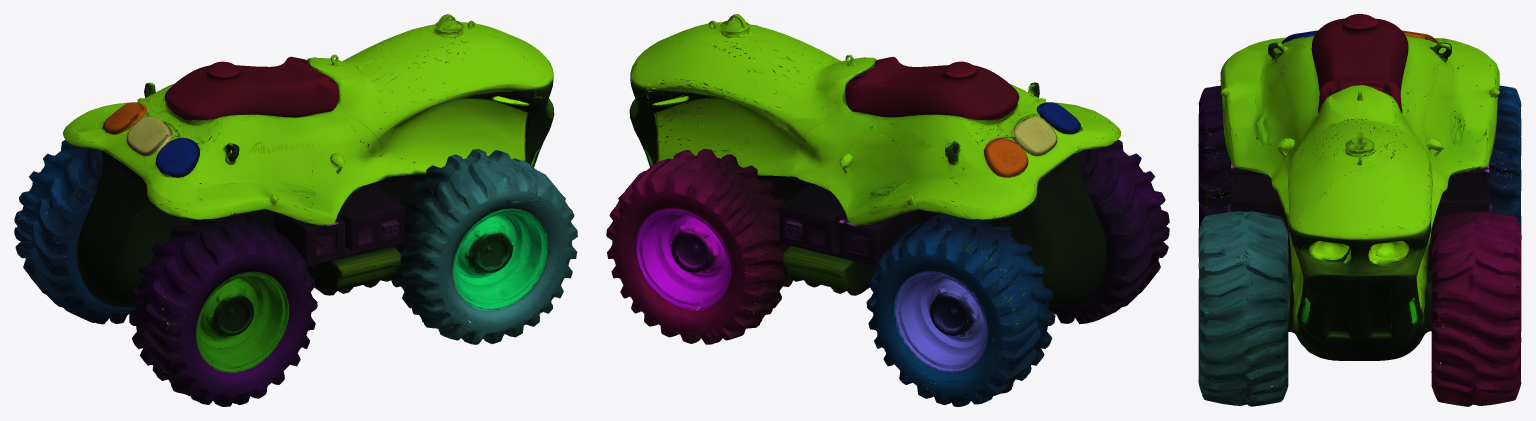
Rendered from t70_parts.glb.
3 renders of one model, left to right at view 1: azimuth 30°, elevation 25°; view 2: azimuth 150°, elevation 25°; view 3: azimuth 270°, elevation 25°, orthographic.
Parts seen in each view (by area): view 1: body_shell, wheel_rr, wheel_fr, wheel_rl, roof_cap, hub_fr, hub_rr, battery_box, sensor_roof_r, gps_antenna, sensor_roof_l; view 2: body_shell, wheel_rl, wheel_fl, wheel_rr, roof_cap, hub_fl, hub_rl, battery_box, sensor_roof_l, gps_antenna, sensor_roof_r; view 3: body_shell, wheel_fr, wheel_fl, roof_cap, battery_box, wheel_rr, wheel_rl.
Part boxes in pixels (<box>): body_shell: <box>63,14,554,342</box>; wheel_rr: <box>129,213,317,406</box>; wheel_fr: <box>391,149,577,344</box>; wheel_rl: <box>14,139,135,324</box>; roof_cap: <box>164,56,338,120</box>; hub_fr: <box>451,208,548,309</box>; hub_rr: <box>195,272,289,372</box>; battery_box: <box>225,159,404,266</box>; sensor_roof_r: <box>155,137,199,177</box>; gps_antenna: <box>126,116,172,156</box>; sensor_roof_l: <box>103,102,147,134</box>; body_shell: <box>629,14,1120,342</box>; wheel_rl: <box>866,213,1055,406</box>; wheel_fl: <box>606,149,792,344</box>; wheel_rr: <box>1048,139,1169,324</box>; roof_cap: <box>845,57,1019,120</box>; hub_fl: <box>635,208,731,309</box>; hub_rl: <box>895,271,988,372</box>; battery_box: <box>779,132,976,266</box>; sensor_roof_l: <box>984,138,1028,177</box>; gps_antenna: <box>1011,116,1057,156</box>; sensor_roof_r: <box>1036,102,1080,134</box>; body_shell: <box>1220,36,1499,360</box>; wheel_fr: <box>1198,211,1288,406</box>; wheel_fl: <box>1431,211,1521,406</box>; roof_cap: <box>1311,14,1408,112</box>; battery_box: <box>1227,162,1492,235</box>; wheel_rr: <box>1198,85,1230,248</box>; wheel_rl: <box>1489,85,1521,232</box>.
Bounding box in the file's own units: 1.03 × 0.5928 × 0.6229.
Materials: 1 (1 with a texture image).
